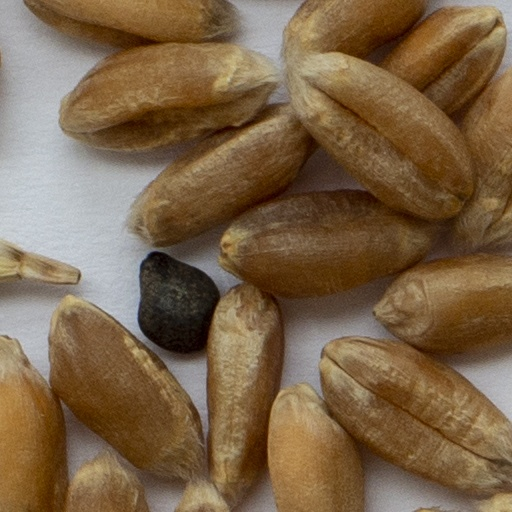Peel-poly: (0, 237, 82, 290)
